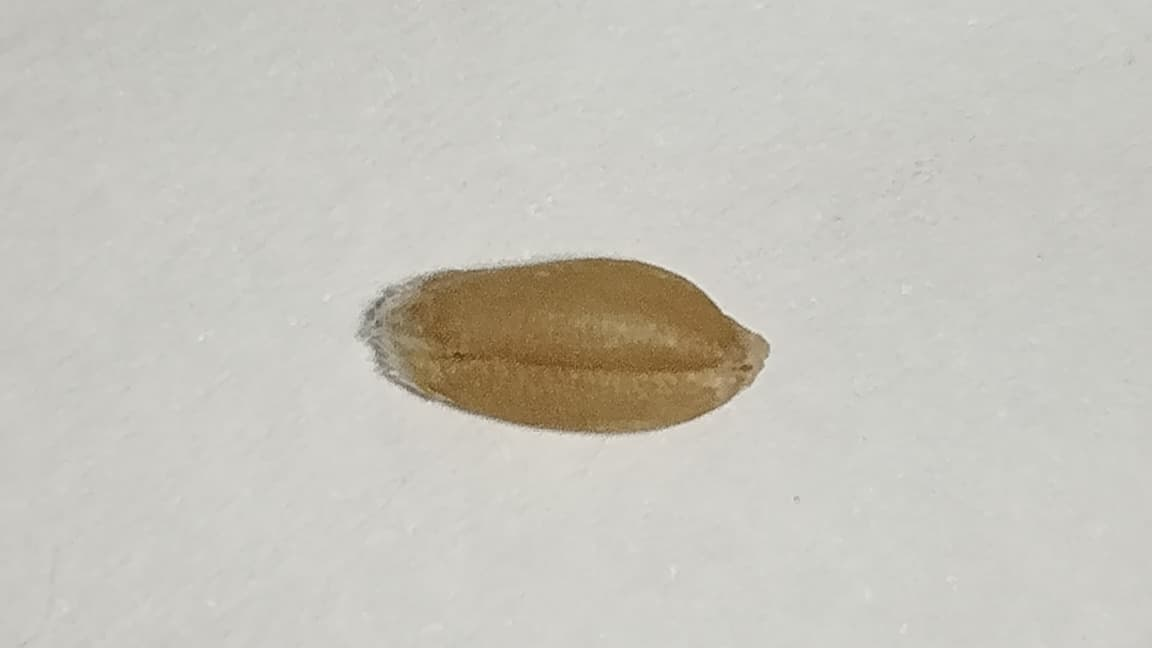healthy: (367, 259, 769, 432)
